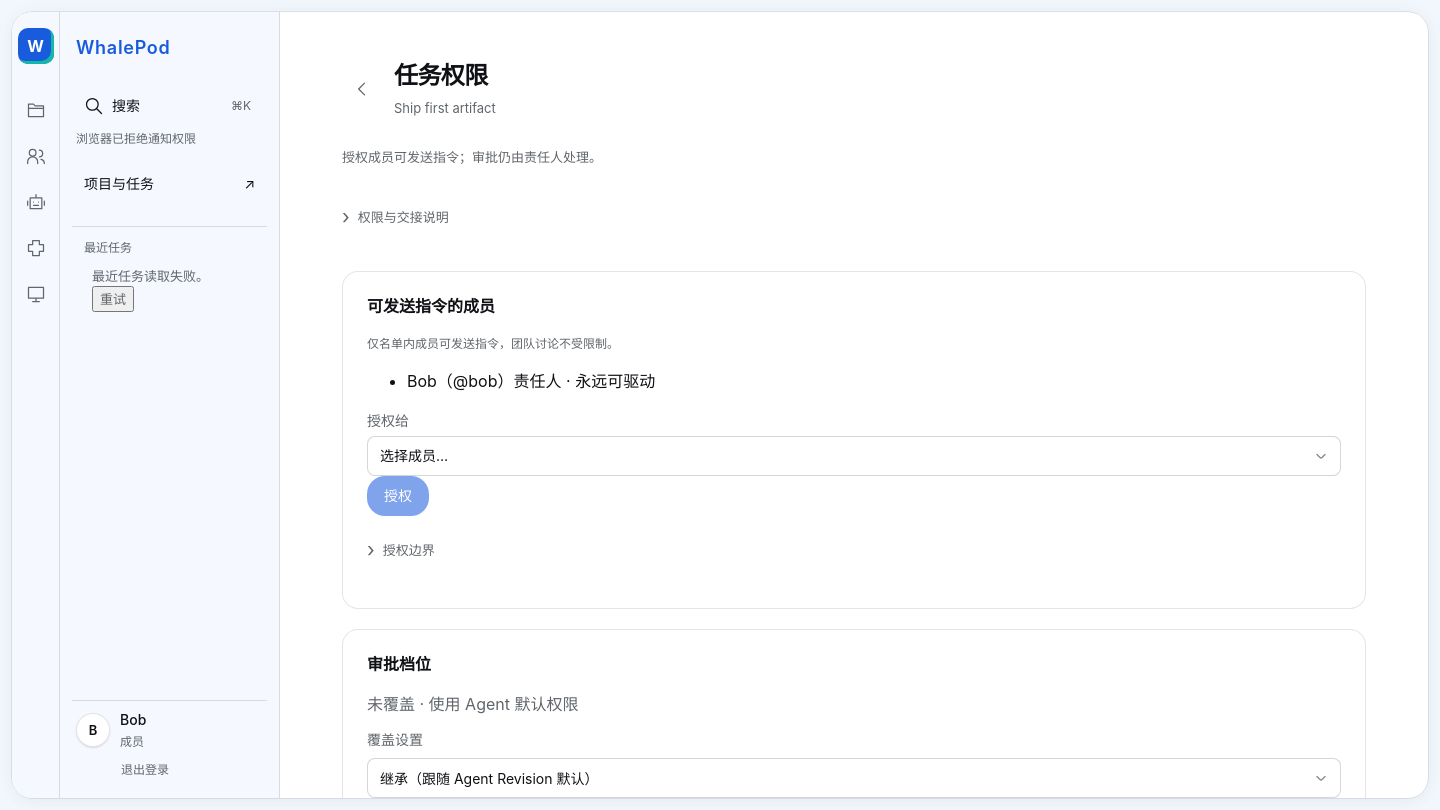
Test: 任务权限页（⑥e） › 已停用成员不进「授权给」下拉（服务端不拦，落了库就是幽灵名单）
Step 1. Click the button named "授权给" → click(414, 456), box [367, 436, 1341, 476]
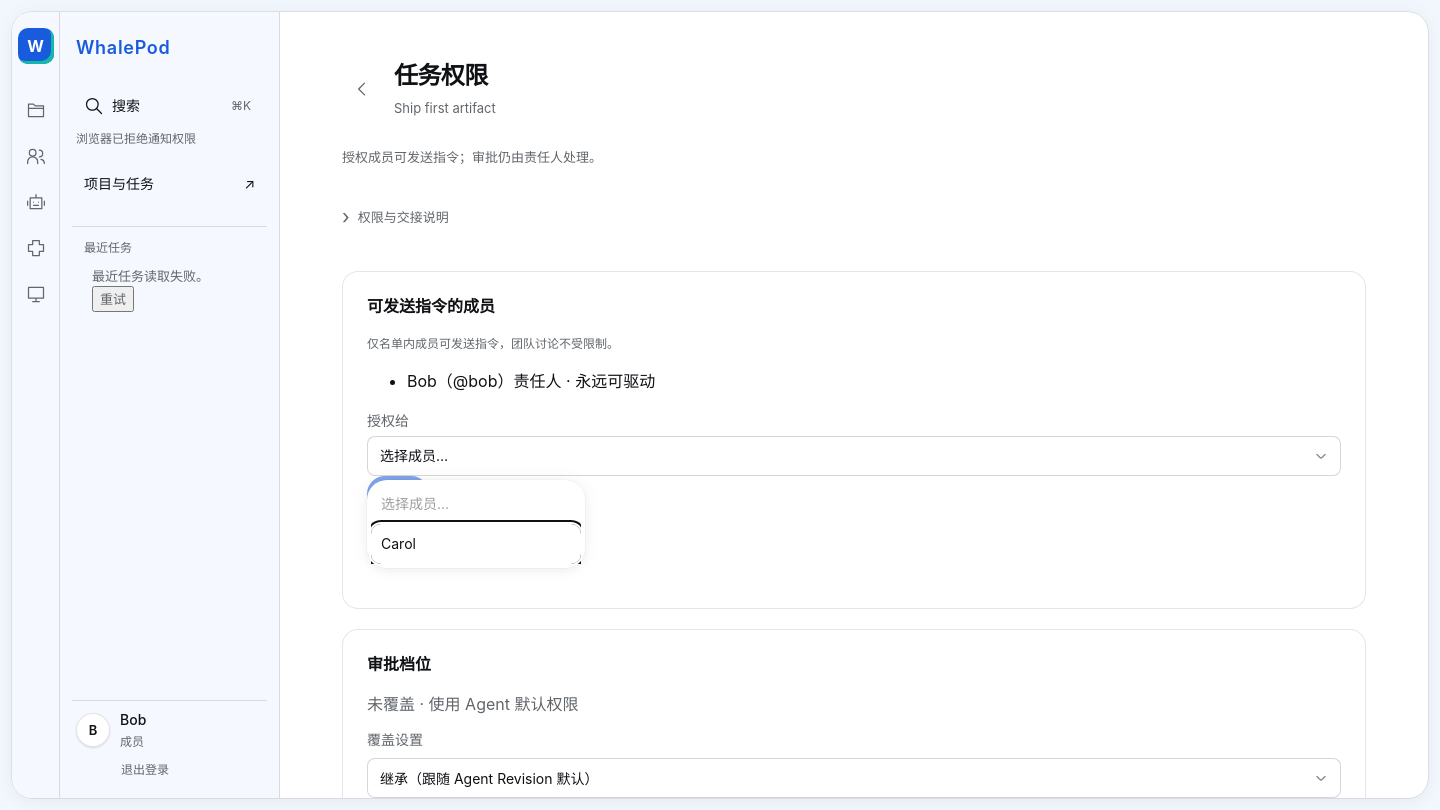
Check: the menu item "Carol" is shown, box [371, 524, 581, 564]
